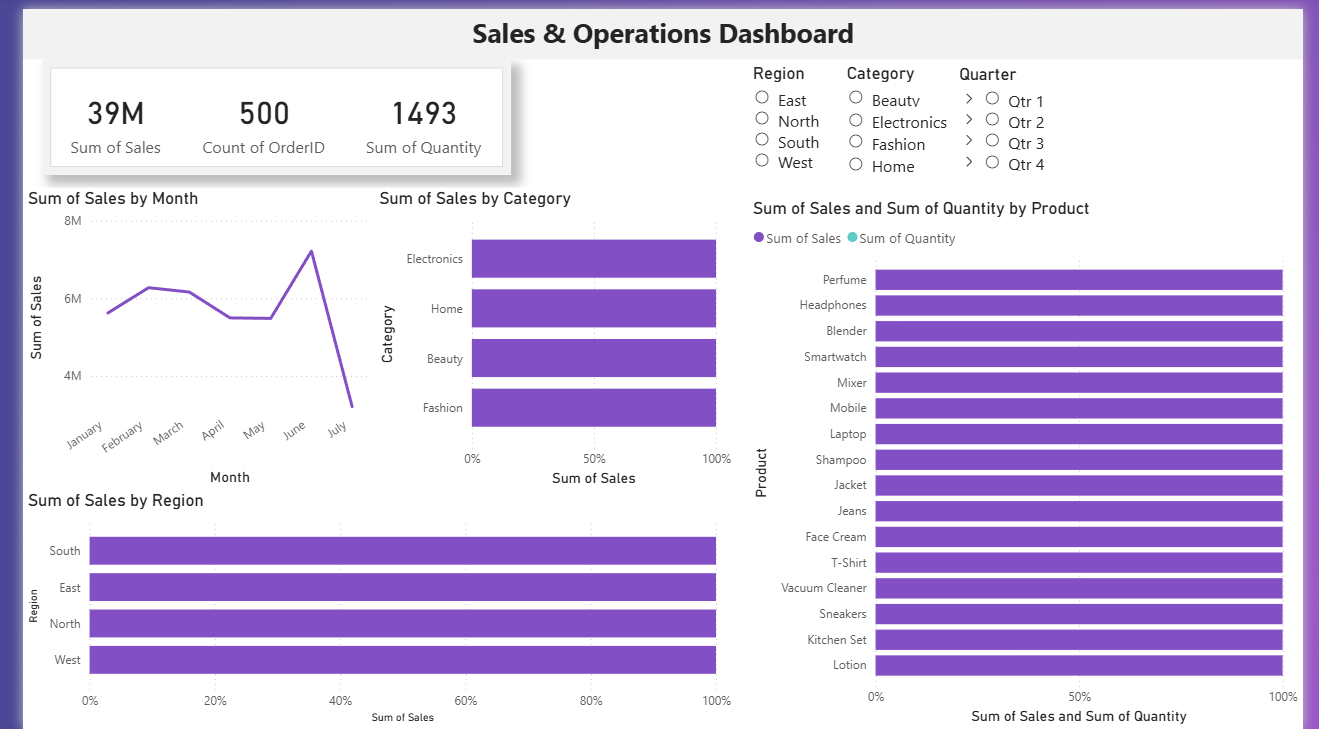

The page's visual inventory and layout, read from the dashboard file:
{"tool":"powerbi","page":{"name":"Page 1","canvas":[1280,720],"ordinal":0},"visuals":[{"type":"shape","box":[19.9,51,467.7,114.4],"z":0},{"type":"textbox","box":[0,0,1280.3,50.8],"z":1000},{"type":"card","fields":{"Values":["Sum(Sheet1.Sales)"]},"box":[29.9,68.4,125.6,87.1],"z":2000,"group":"g1"},{"type":"card","fields":{"Values":["CountNonNull(Sheet1.OrderID)"]},"box":[155.5,68.4,169.2,87.1],"z":3000,"group":"g1"},{"type":"card","fields":{"Values":["Sum(Sheet1.Quantity)"]},"box":[324.7,68.4,151.8,87.1],"z":4000,"group":"g1"},{"type":"lineChart","fields":{"Category":["Sheet1.Date.Variation.Date Hierarchy.Month"],"Y":["Sum(Sheet1.Sales)"]},"box":[0,178.7,350.6,303],"z":5000},{"type":"listSlicer","fields":{"Values":["Sheet1.Date.Variation.Date Hierarchy.Quarter","Sheet1.Date.Variation.Date Hierarchy.Month"]},"box":[931,55.1,139.7,204.2],"z":5500},{"type":"hundredPercentStackedBarChart","fields":{"Category":["Sheet1.Category"],"Y":["Sum(Sheet1.Sales)"]},"box":[350.8,179.1,362,303.5],"z":6000},{"type":"hundredPercentStackedBarChart","fields":{"Category":["Sheet1.Region"],"Y":["Sum(Sheet1.Sales)"]},"box":[0,481.7,713.2,238.3],"z":7000},{"type":"listSlicer","fields":{"Values":["Sheet1.Category"]},"box":[818.5,53.5,113.2,205.3],"z":7500},{"type":"listSlicer","fields":{"Values":["Sheet1.Region"]},"box":[725.2,54,93.3,200],"z":7875},{"type":"hundredPercentStackedBarChart","fields":{"Category":["Sheet1.Product"],"Y":["Sum(Sheet1.Sales)","Sum(Sheet1.Quantity)"]},"box":[725.2,189.1,554.8,531.2],"z":8250},{"type":"group","id":"g1","title":"Group 1","box":[29.9,68.4,446.6,87.1],"z":9001}]}

Visuals, with their boxes in screenshot pixels (x1, y1, x2, y2), scaled from the page's 1280x720 canvas onto the 1319x729 screenshot:
shape: (x1=21, y1=52, x2=502, y2=167)
textbox: (x1=0, y1=0, x2=1318, y2=51)
card - Sum(Sheet1.Sales): (x1=31, y1=69, x2=160, y2=157)
card - CountNonNull(Sheet1.OrderID): (x1=160, y1=69, x2=335, y2=157)
card - Sum(Sheet1.Quantity): (x1=335, y1=69, x2=491, y2=157)
lineChart - Sheet1.Date.Variation.Date Hierarchy.Month x Sum(Sheet1.Sales): (x1=0, y1=181, x2=361, y2=488)
listSlicer - Sheet1.Date.Variation.Date Hierarchy.Quarter x Sheet1.Date.Variation.Date Hierarchy.Month: (x1=959, y1=56, x2=1103, y2=263)
hundredPercentStackedBarChart - Sheet1.Category x Sum(Sheet1.Sales): (x1=361, y1=181, x2=735, y2=489)
hundredPercentStackedBarChart - Sheet1.Region x Sum(Sheet1.Sales): (x1=0, y1=488, x2=735, y2=728)
listSlicer - Sheet1.Category: (x1=843, y1=54, x2=960, y2=262)
listSlicer - Sheet1.Region: (x1=747, y1=55, x2=843, y2=257)
hundredPercentStackedBarChart - Sheet1.Product x Sum(Sheet1.Sales): (x1=747, y1=191, x2=1318, y2=728)
"Group 1" group: (x1=31, y1=69, x2=491, y2=157)
